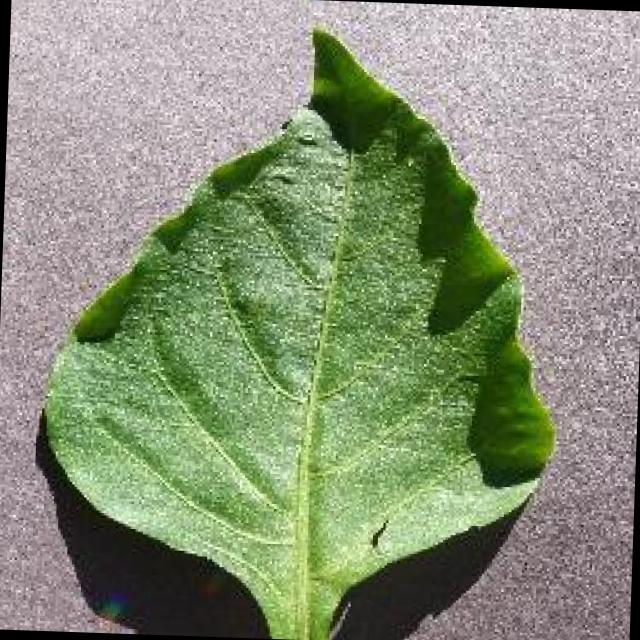Chilli_Healthy: (31, 11, 570, 640)
